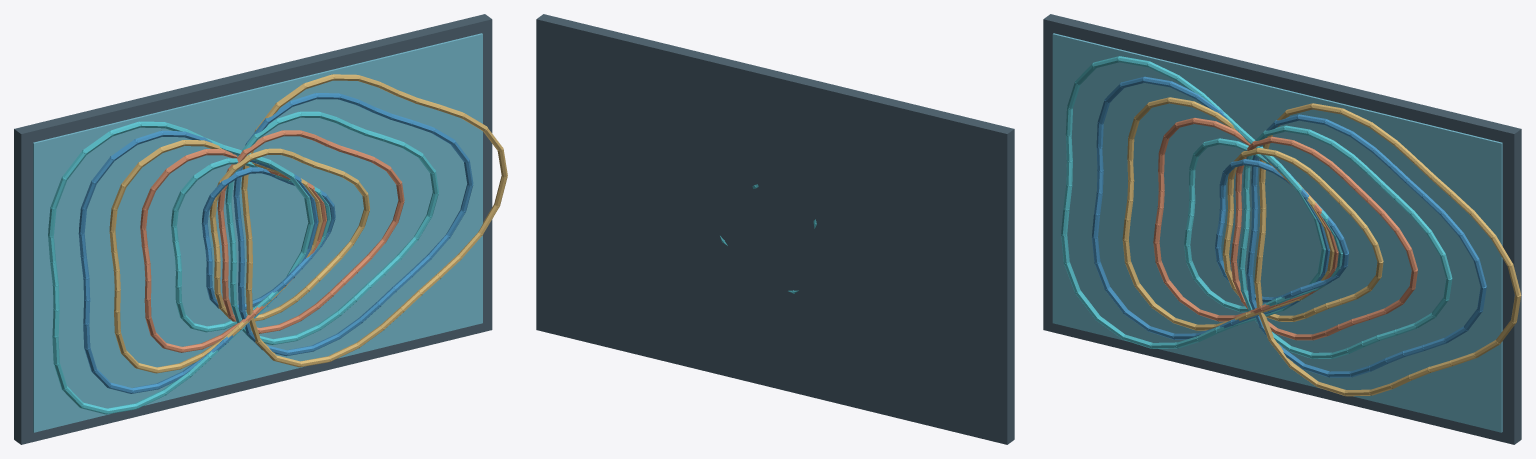
File: 37_L82_ThreeDimensionalRadiationPatternHologram.glb
The picture shows the model from 3 angles, left to right: view 1: azimuth 30°, elevation 25°; view 2: azimuth 150°, elevation 25°; view 3: azimuth 330°, elevation 25°; orthographic projection.
Parts seen in each view (by area): view 1: ThreeDimensionalRadiationPatternHologram_Node_0001, ThreeDimensionalRadiationPatternHologram_Node_0000; view 2: ThreeDimensionalRadiationPatternHologram_Node_0000; view 3: ThreeDimensionalRadiationPatternHologram_Node_0001, ThreeDimensionalRadiationPatternHologram_Node_0000.
Part boxes in pixels (box(x1,y1,x2,y2)): ThreeDimensionalRadiationPatternHologram_Node_0001: box(33, 33, 482, 432); ThreeDimensionalRadiationPatternHologram_Node_0000: box(14, 14, 492, 444); ThreeDimensionalRadiationPatternHologram_Node_0000: box(536, 14, 1014, 444); ThreeDimensionalRadiationPatternHologram_Node_0001: box(1052, 33, 1502, 432); ThreeDimensionalRadiationPatternHologram_Node_0000: box(1043, 14, 1521, 444).
Bounding box in the file's own units: 3.49 × 2.15 × 0.2.
